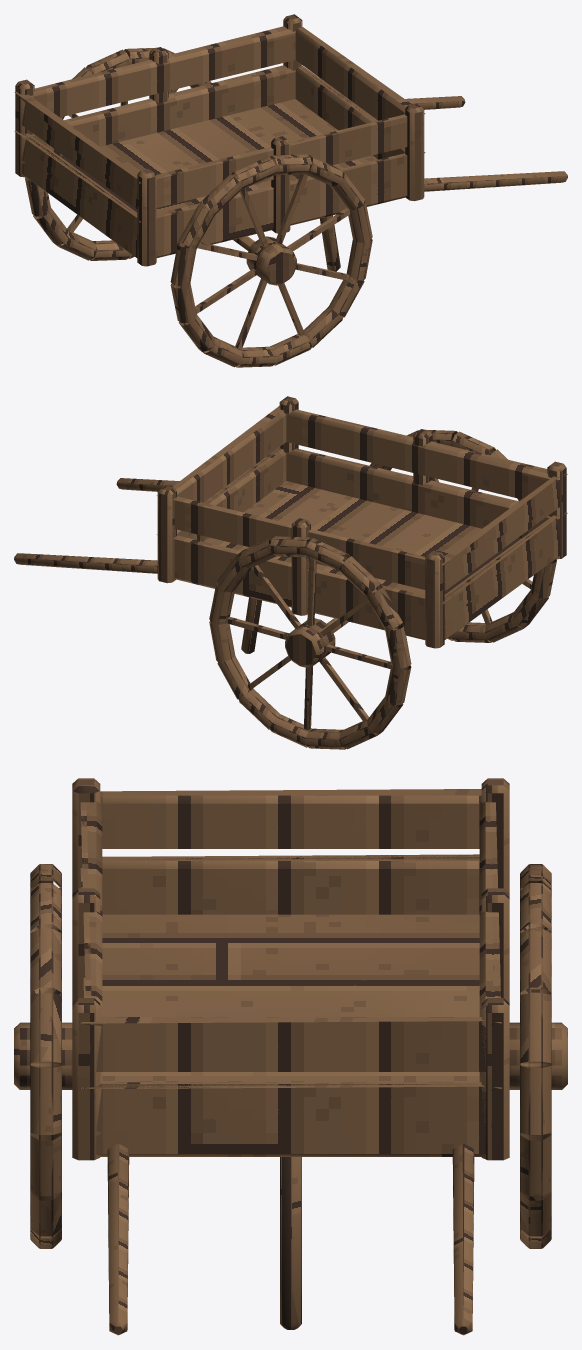
The model's file is handcart_0.glb.
3 renders of one model, top to bottom at view 1: azimuth 30°, elevation 25°; view 2: azimuth 150°, elevation 25°; view 3: azimuth 270°, elevation 25°, orthographic. The views are drawn at different scales.
Visible parts, largest first — view 1: handcart_1; view 2: handcart_1; view 3: handcart_1.
Boxes of the visible parts, x1,y1,x2,y2 form: handcart_1: (14,14,567,367); handcart_1: (14,396,567,749); handcart_1: (14,778,567,1335).
Size of the model in its own units: 2.12 by 0.9796 by 1.38.
3 materials, 3 textured.
